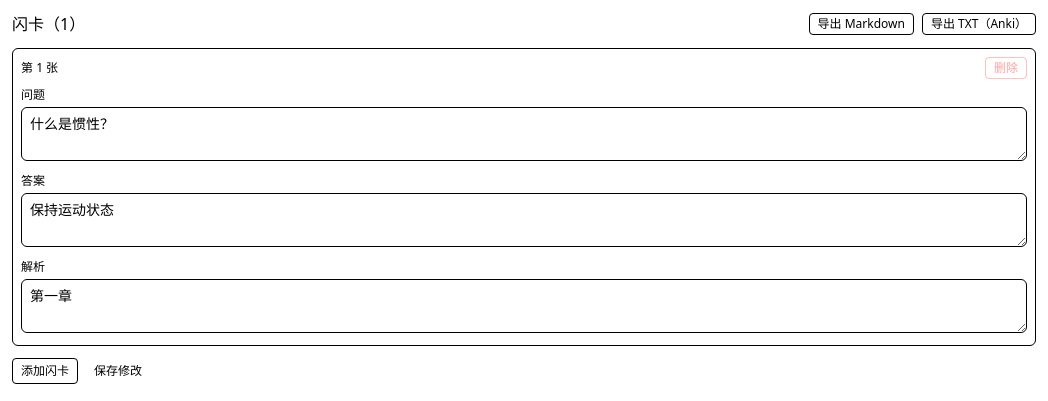
FlashcardEditor › disables saving when a question or answer is empty
Clear the text box named "答案 1" at (524, 220), box top-left (21, 193), bottom-right (1027, 247)
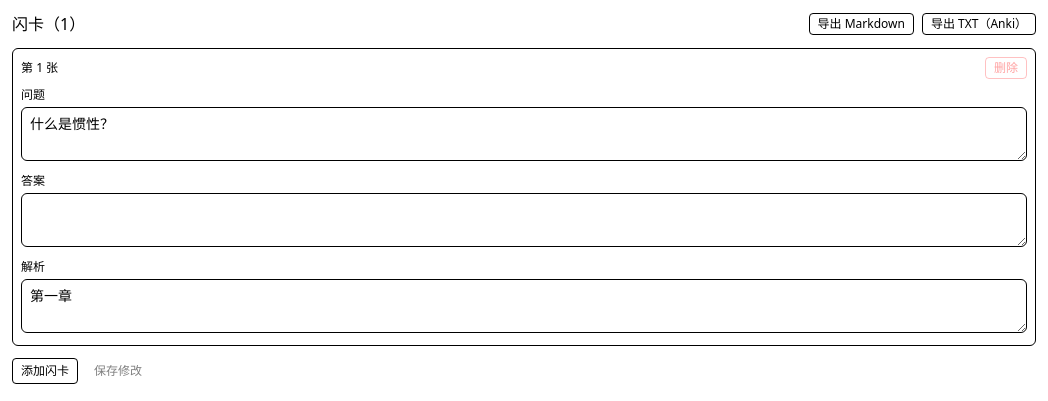
Expected: the button "保存修改" is disabled, top-left (86, 359), bottom-right (150, 383)
